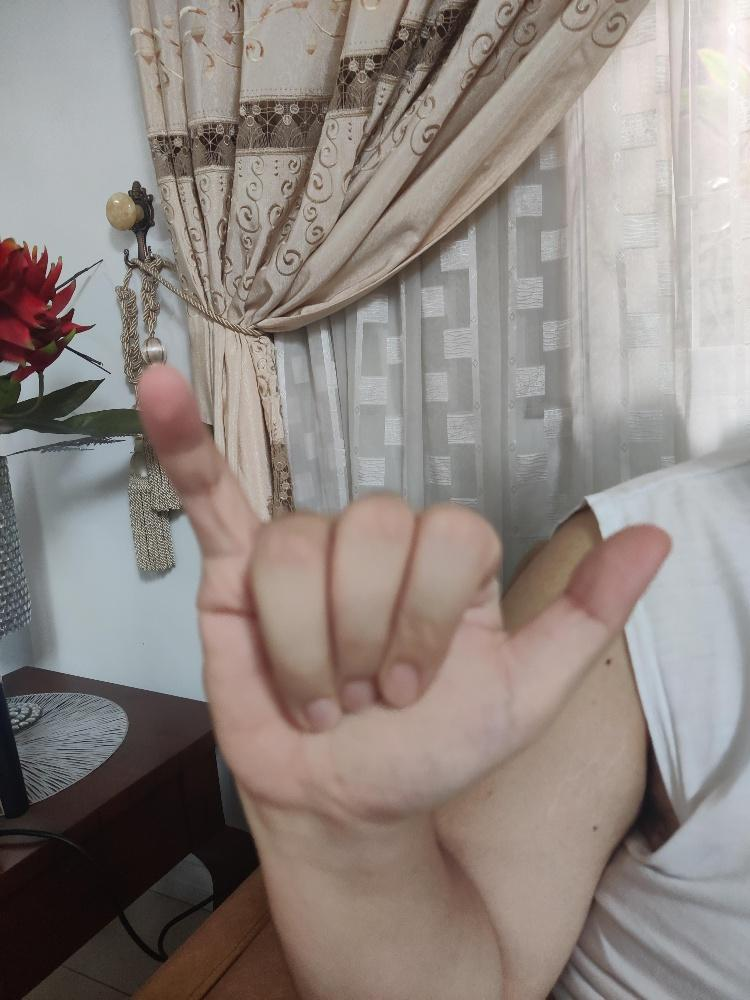y: (135, 359, 675, 821)
